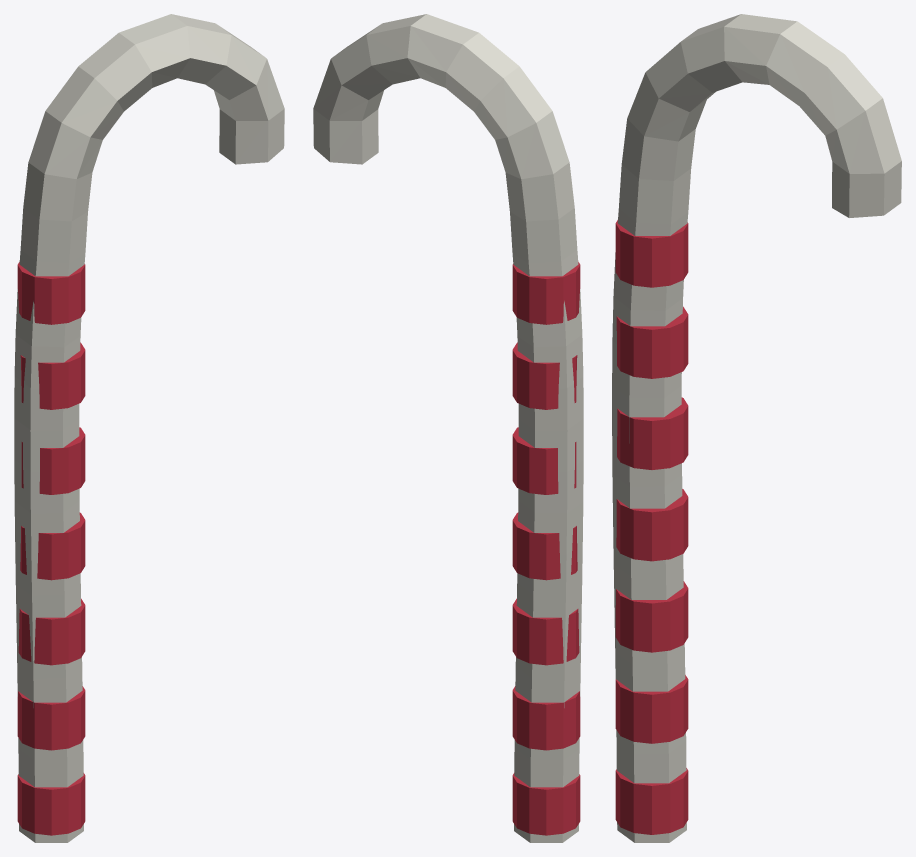
The model's file is three-d-christmas-village-christmas-village-candy-cane-25ba0db9.glb.
3 renders of one model, left to right at view 1: azimuth 30°, elevation 25°; view 2: azimuth 150°, elevation 25°; view 3: azimuth 330°, elevation 25°, orthographic. The views are drawn at different scales.
Visible parts, largest first — view 1: candy-cane; view 2: candy-cane; view 3: candy-cane.
Boxes of the visible parts, x1,y1,x2,y2 form: candy-cane: [14, 14, 284, 842]; candy-cane: [313, 14, 583, 842]; candy-cane: [612, 14, 901, 842].
Bounding box in the file's own units: 0.4067 × 1.19 × 0.094.
